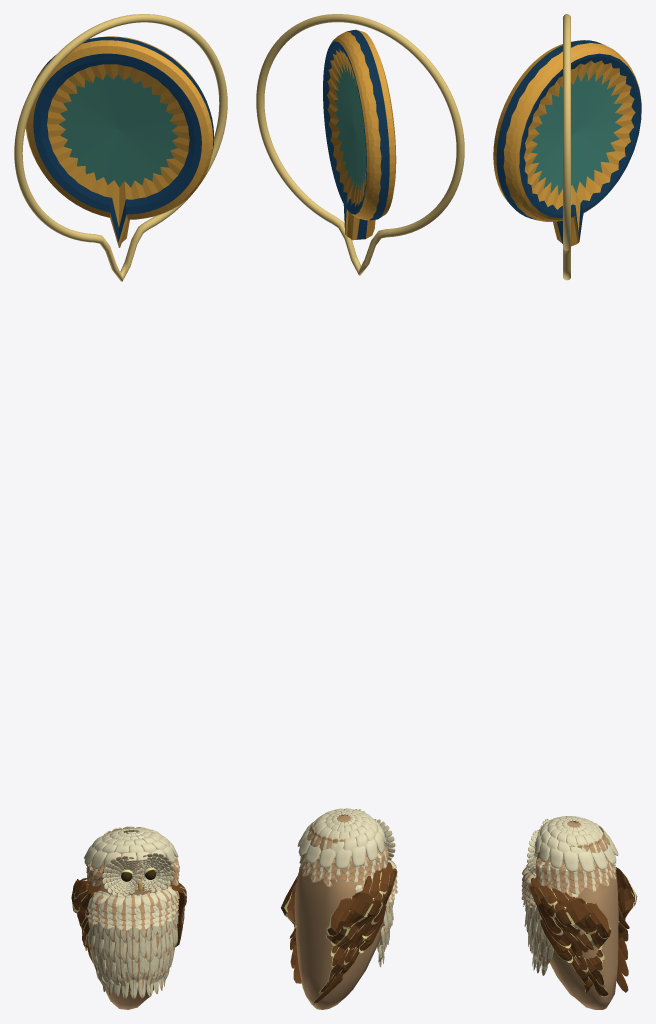
The model's file is Barred_Owl_Export.glb.
3 renders of one model, left to right at view 1: azimuth 30°, elevation 25°; view 2: azimuth 150°, elevation 25°; view 3: azimuth 270°, elevation 25°, orthographic. The views are drawn at different scales.
Visible parts, largest first — view 1: Marker_Owl, BarredOwl, MarkerHalo_Owl; view 2: BarredOwl, Marker_Owl, MarkerHalo_Owl; view 3: Marker_Owl, BarredOwl, MarkerHalo_Owl.
Part boxes in pixels (<box>): Marker_Owl: <box>25,36,213,247</box>; BarredOwl: <box>71,826,186,1009</box>; MarkerHalo_Owl: <box>14,14,227,281</box>; BarredOwl: <box>281,808,397,1009</box>; Marker_Owl: <box>323,29,396,240</box>; MarkerHalo_Owl: <box>256,14,464,275</box>; Marker_Owl: <box>493,40,641,246</box>; BarredOwl: <box>521,816,637,1009</box>; MarkerHalo_Owl: <box>563,14,570,280</box>.
Size of the model in its own units: 0.1366 by 0.6193 by 0.0855.
